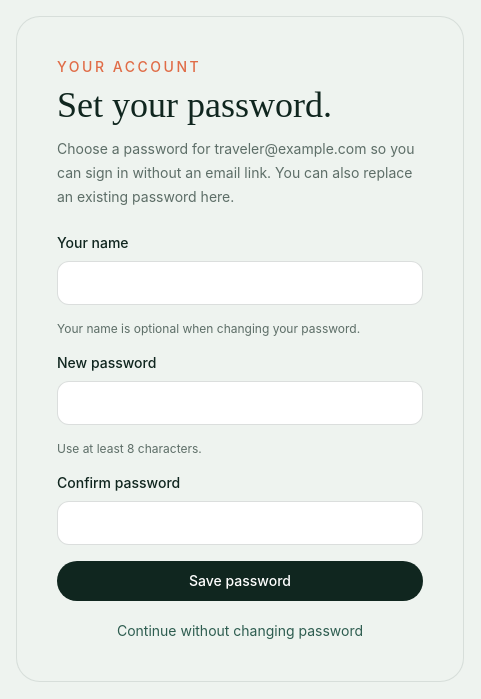
Test: reports profile save failures and keeps the invitation destination
Type "Alex" into the field labelled "Your name". click: (240, 283)
box: [57, 261, 423, 305]
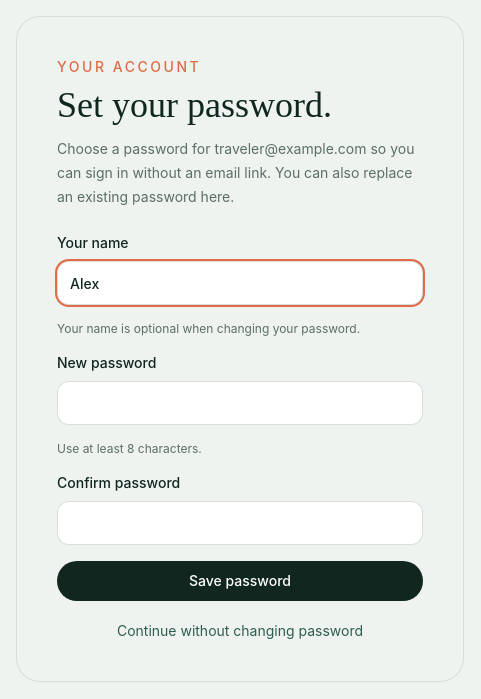
Type "password123" into the password field labelled "New password". click: (240, 403)
box: [57, 381, 423, 425]
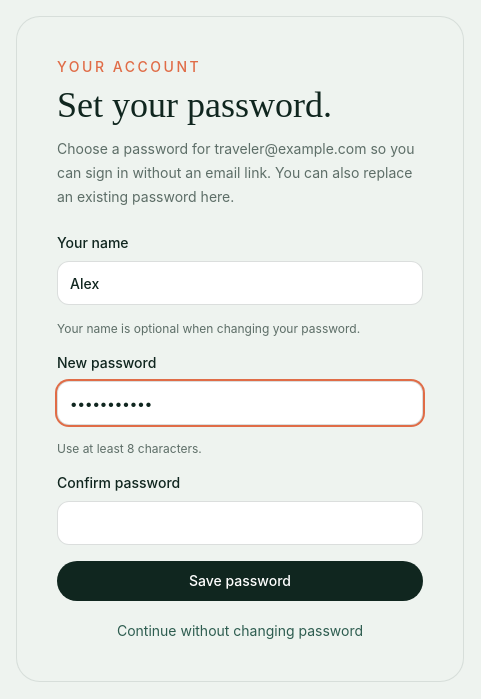
Type "password123" into the password field labelled "Confirm password". click: (240, 523)
box: [57, 501, 423, 545]
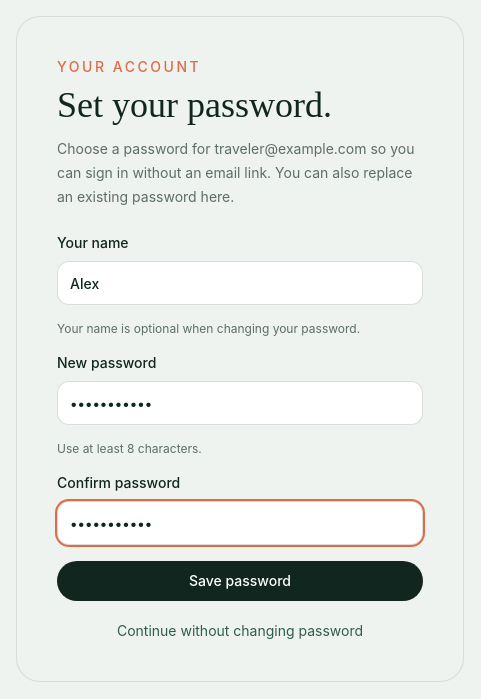
Click the button "Save password". click: (240, 581)
box: [57, 561, 423, 601]
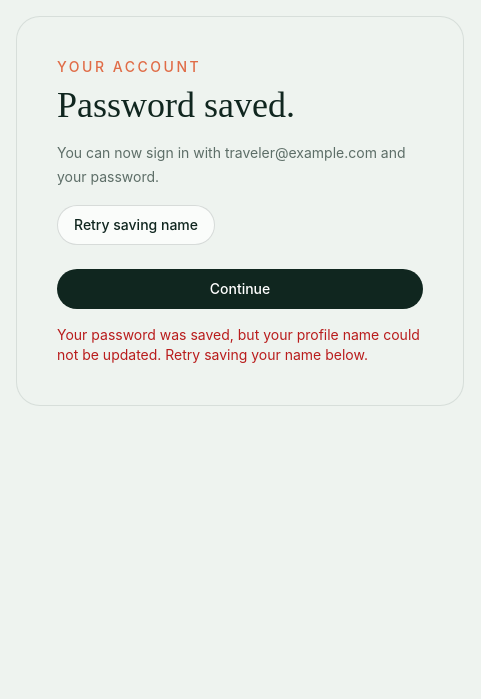
Check: the 2nd message shows "Your password was saved, but your profile name could not be updated", box [57, 326, 420, 363]
Check: the heading "Password saved." is shown, box [57, 85, 295, 125]
